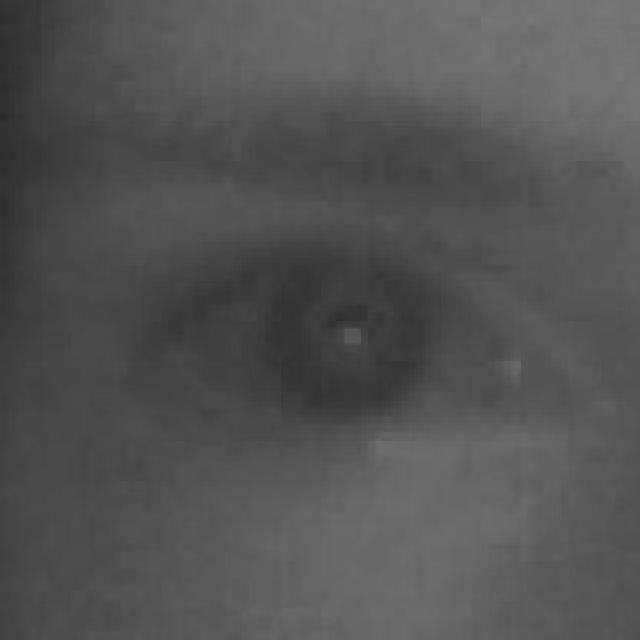awake: (122, 222, 546, 442)
